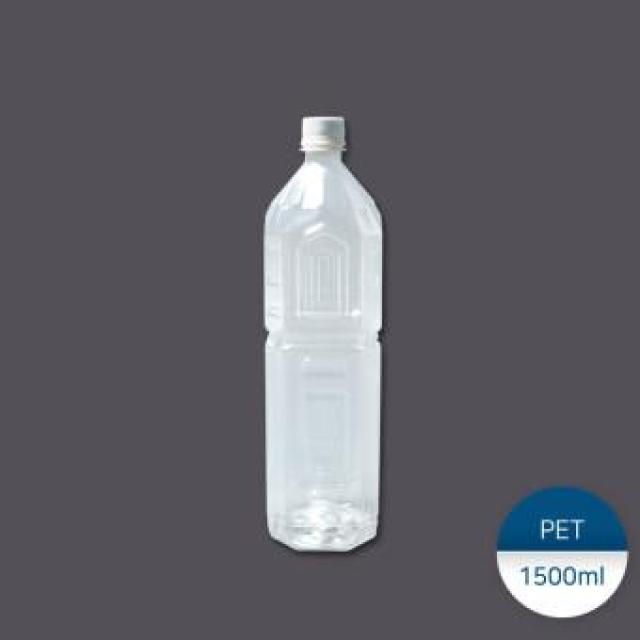bottle: (259, 115, 395, 551)
